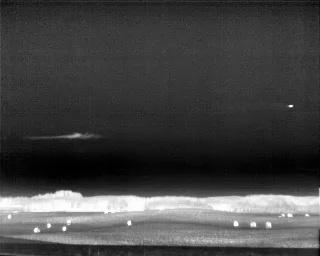BIRD: (286, 102, 295, 110)
